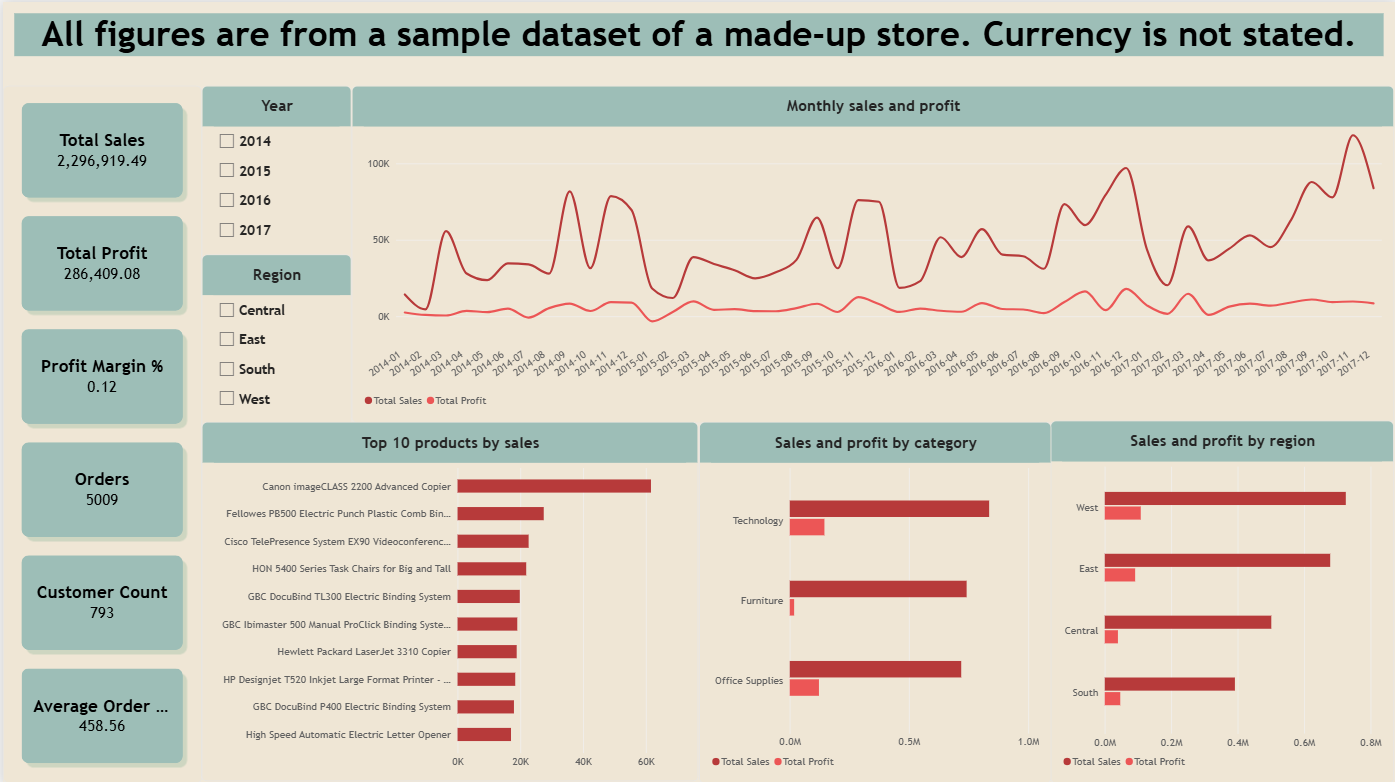

This screenshot's page, from the dashboard's own definition file:
{"tool":"powerbi","page":{"name":"1 Executive Overview","canvas":[1920,1080],"ordinal":1},"visuals":[{"type":"slicer","title":"Year","fields":{"Values":["Calendar.Year"]},"box":[273.4,116.1,206.3,252.8],"z":1000},{"type":"slicer","title":"Region","fields":{"Values":["Sales.region"]},"box":[273.4,348.2,206.3,247.6],"z":2000},{"type":"cardVisual","fields":{"Data":["_Measures.Total Sales","_Measures.Total Profit","_Measures.Profit Margin %","_Measures.Orders","_Measures.Customer Count","_Measures.Average Order Value"]},"box":[0,115.1,274.1,962.9],"z":3000},{"type":"lineChart","title":"Monthly sales and profit","fields":{"Category":["Calendar.Year-Month"],"Y":["_Measures.Total Sales","_Measures.Total Profit"]},"box":[480.5,115.1,1438,465.9],"z":4000},{"type":"clusteredBarChart","title":"Sales and profit by region","fields":{"Category":["Sales.region"],"Y":["_Measures.Total Sales","_Measures.Total Profit"]},"box":[1445.6,577.2,473.7,501.8],"z":5000},{"type":"clusteredBarChart","title":"Sales and profit by category","fields":{"Category":["Products.category"],"Y":["_Measures.Total Sales","_Measures.Total Profit"]},"box":[959.6,578.9,486,500],"z":6000},{"type":"textbox","box":[14.8,14.8,1888.9,59.3],"z":6500},{"type":"barChart","title":"Top 10 products by sales","fields":{"Category":["Products.product_name"],"Y":["_Measures.Total Sales"]},"box":[274.1,579.2,685.2,497],"z":7000}]}

Visuals, with their boxes in screenshot pixels (x1, y1, x2, y2), scaled from the page's 1920x1080 canvas onto the 1395x782 screenshot:
"Year" slicer: bbox(199, 84, 349, 267)
"Region" slicer: bbox(199, 252, 349, 431)
cardVisual - _Measures.Total Sales x _Measures.Total Profit: bbox(0, 83, 199, 781)
"Monthly sales and profit" lineChart: bbox(349, 83, 1394, 421)
"Sales and profit by region" clusteredBarChart: bbox(1050, 418, 1394, 781)
"Sales and profit by category" clusteredBarChart: bbox(697, 419, 1050, 781)
textbox: bbox(11, 11, 1383, 54)
"Top 10 products by sales" barChart: bbox(199, 419, 697, 779)
